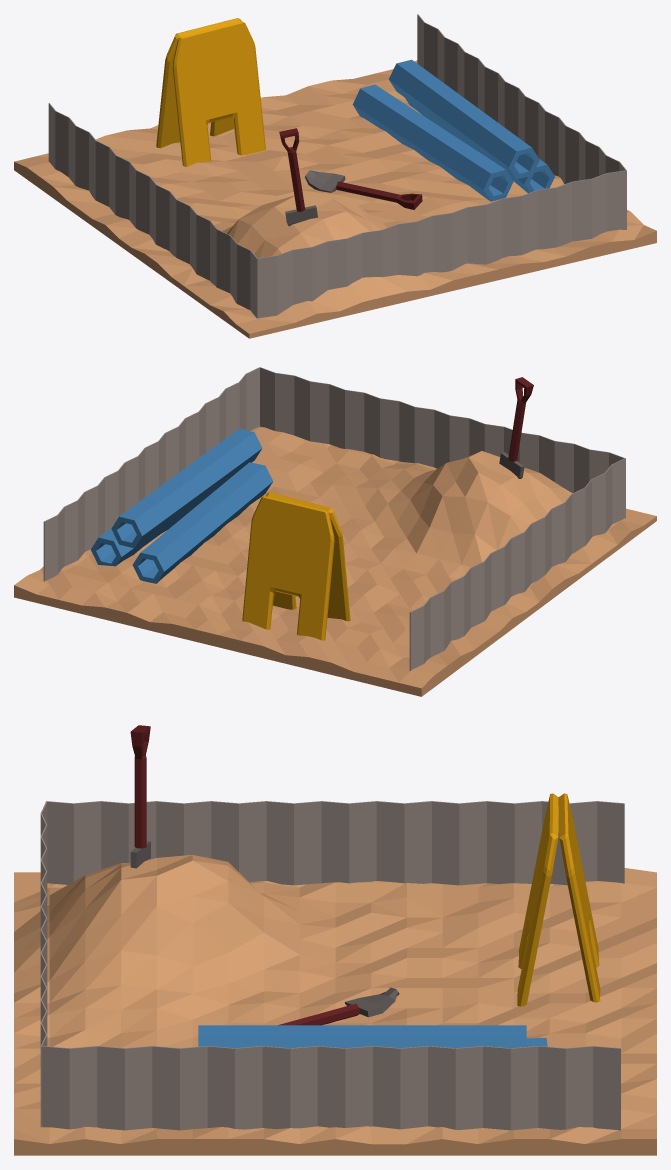
File: Construction_Site.fbx
3 views of the same model, one above another, from view 1: azimuth 30°, elevation 25°; view 2: azimuth 150°, elevation 25°; view 3: azimuth 270°, elevation 25° (orthographic). The views are drawn at different scales.
Parts seen in each view (by area): view 1: Cube, Cube.001, Cube.004, Cube.002, Cube.003, Cylinder.005, Cylinder.006, Cylinder.003, Cylinder.002, Cylinder; view 2: Cube, Cube.001, Cube.004, Cube.002, Cube.003, Cylinder.006, Cylinder.005, Cylinder, Cylinder.002; view 3: Cube, Cube.003, Cube.004, Cylinder.006, Cube.002, Cube.001, Cylinder.002, Cylinder.003.
Boxes of the visible parts, left/top/right/bottom form: Cube: left=14, top=60, right=656, bottom=338; Cube.001: left=257, top=170, right=626, bottom=318; Cube.004: left=48, top=103, right=257, bottom=318; Cube.002: left=156, top=18, right=265, bottom=166; Cube.003: left=417, top=14, right=626, bottom=184; Cylinder.005: left=352, top=84, right=513, bottom=201; Cylinder.006: left=388, top=59, right=539, bottom=179; Cylinder.003: left=304, top=170, right=422, bottom=209; Cylinder.002: left=279, top=128, right=317, bottom=226; Cylinder: left=405, top=98, right=554, bottom=193; Cube: left=14, top=426, right=656, bottom=696; Cube.001: left=260, top=367, right=624, bottom=493; Cube.004: left=409, top=458, right=625, bottom=670; Cube.002: left=242, top=492, right=350, bottom=640; Cube.003: left=43, top=367, right=259, bottom=581; Cylinder.006: left=111, top=428, right=262, bottom=548; Cylinder.005: left=132, top=462, right=273, bottom=583; Cylinder: left=90, top=481, right=226, bottom=566; Cylinder.002: left=499, top=377, right=533, bottom=478; Cube: left=14, top=855, right=656, bottom=1155; Cube.003: left=42, top=1046, right=620, bottom=1130; Cube.004: left=46, top=801, right=624, bottom=885; Cylinder.006: left=198, top=1025, right=526, bottom=1048; Cube.002: left=517, top=793, right=600, bottom=1006; Cube.001: left=40, top=801, right=47, bottom=1127; Cylinder.002: left=130, top=725, right=150, bottom=868; Cylinder.003: left=278, top=987, right=399, bottom=1025.
Bounding box in the file's own units: 1000 × 368 × 1000.
